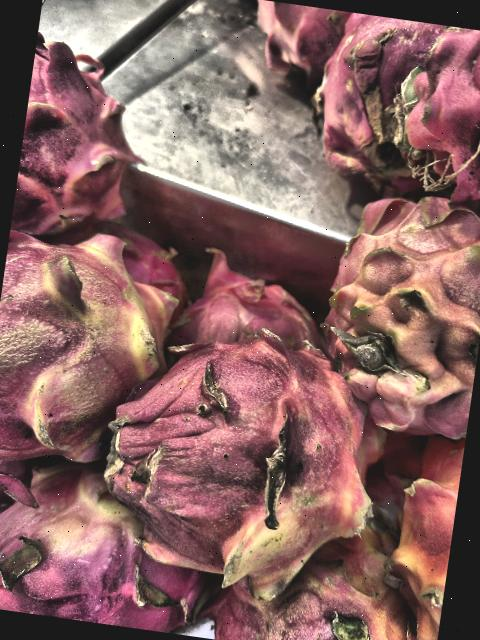buah-naga-belum-matang: (92, 325, 396, 587), (312, 148, 480, 429), (0, 227, 173, 457), (0, 463, 212, 636), (198, 519, 449, 640), (384, 440, 464, 640)
buah-naga-matang: (306, 9, 480, 226), (10, 31, 161, 250), (248, 0, 366, 105)
